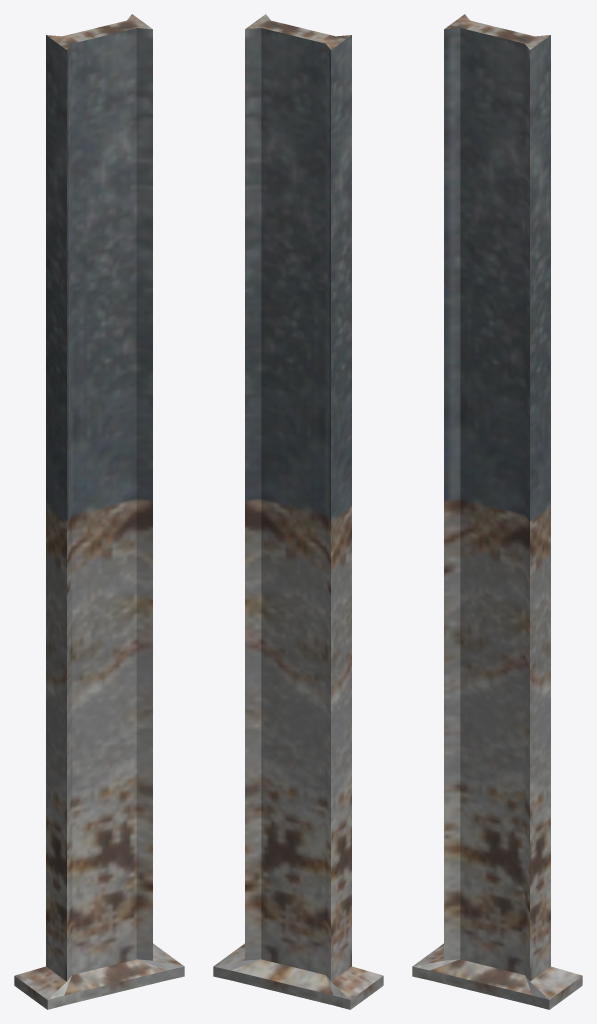
File: SmallMetalPillar3.fbx
3 renders of one model, left to right at view 1: azimuth 30°, elevation 25°; view 2: azimuth 150°, elevation 25°; view 3: azimuth 330°, elevation 25°, orthographic.
Parts seen in each view (by area): view 1: SmallMetalPillar3; view 2: SmallMetalPillar3; view 3: SmallMetalPillar3.
Boxes of the visible parts, left/top/right/bottom form: SmallMetalPillar3: left=14, top=14, right=184, bottom=1009; SmallMetalPillar3: left=213, top=14, right=383, bottom=1009; SmallMetalPillar3: left=412, top=14, right=582, bottom=1009.
Bounding box in the file's own units: 45.57 × 109 × 717.
